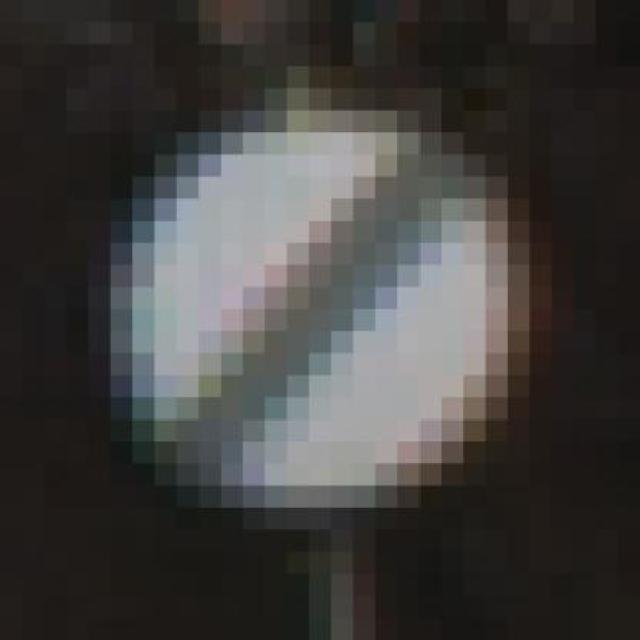End of all speed and passing limits: (89, 110, 552, 552)
